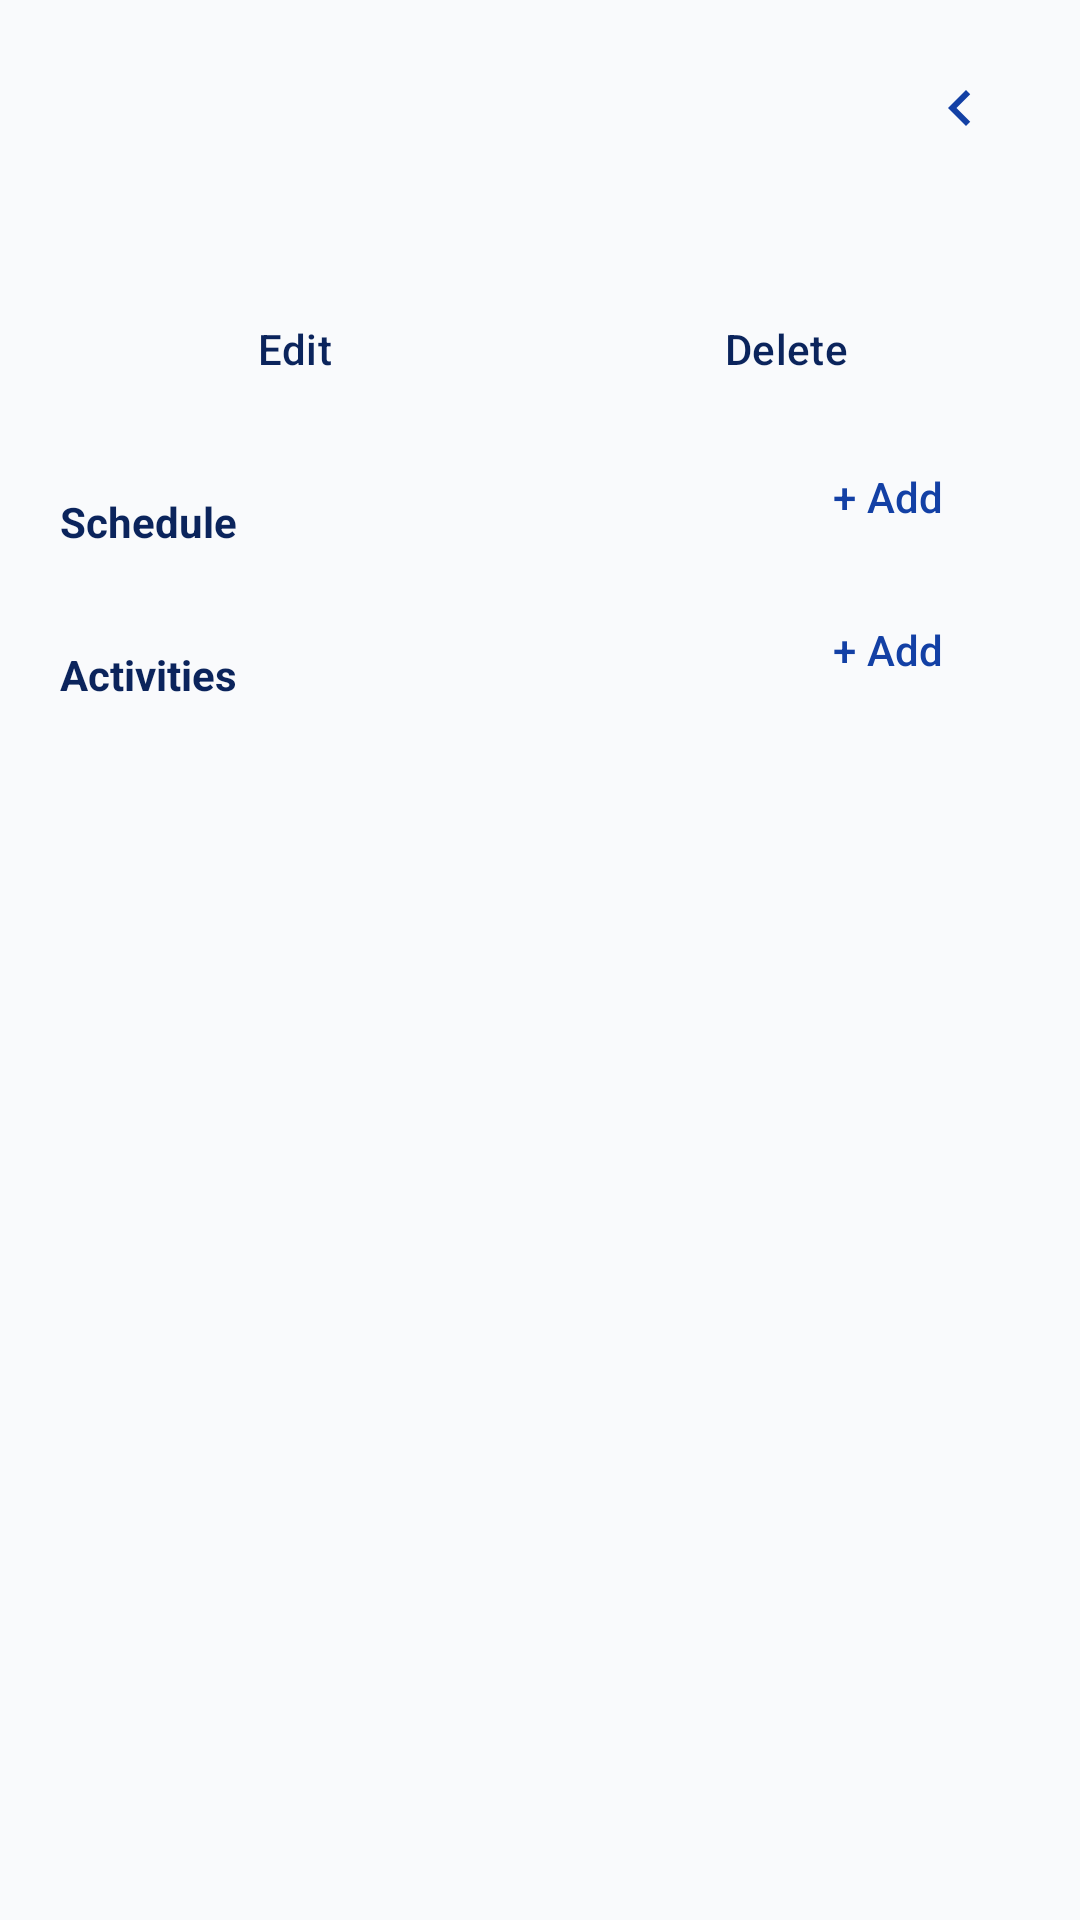

Where to tap for icons on this 1080x1920 app screen, as point (x, y):
Back: point (959, 108)
